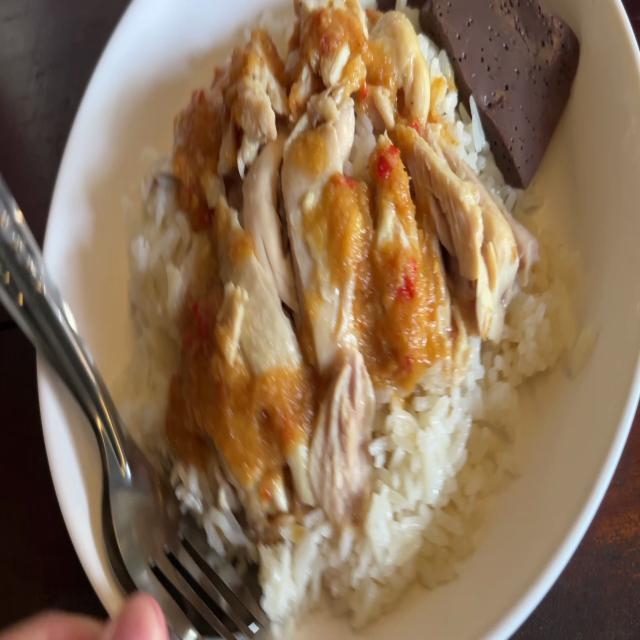boiled_chicken: (173, 0, 484, 496)
boiled_chicken_blood_jelly: (136, 0, 581, 611), (429, 0, 575, 164)
